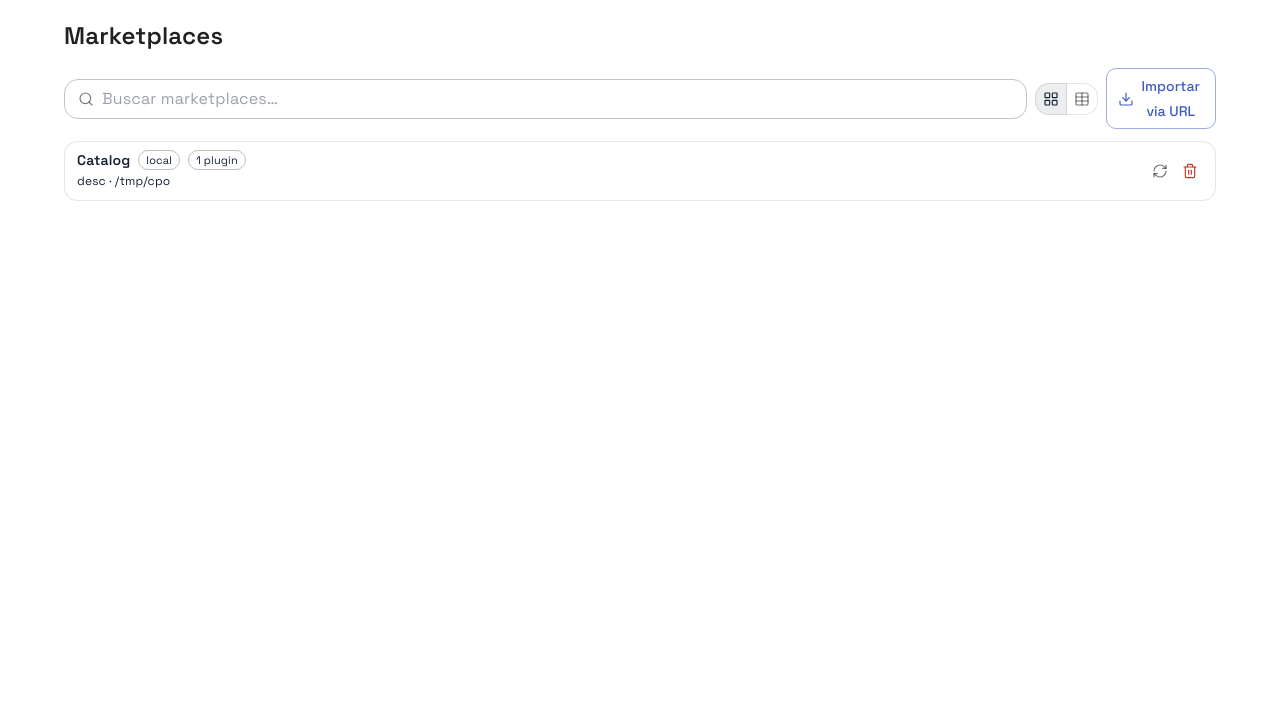
Test: <MarketplaceList> › opens marketplace detail drawer when a card is clicked
Note: List remains on screen
Click the element with test id "entity-grid-card-marketplace-cpo".
click(640, 171)  # box [64, 141, 1216, 201]
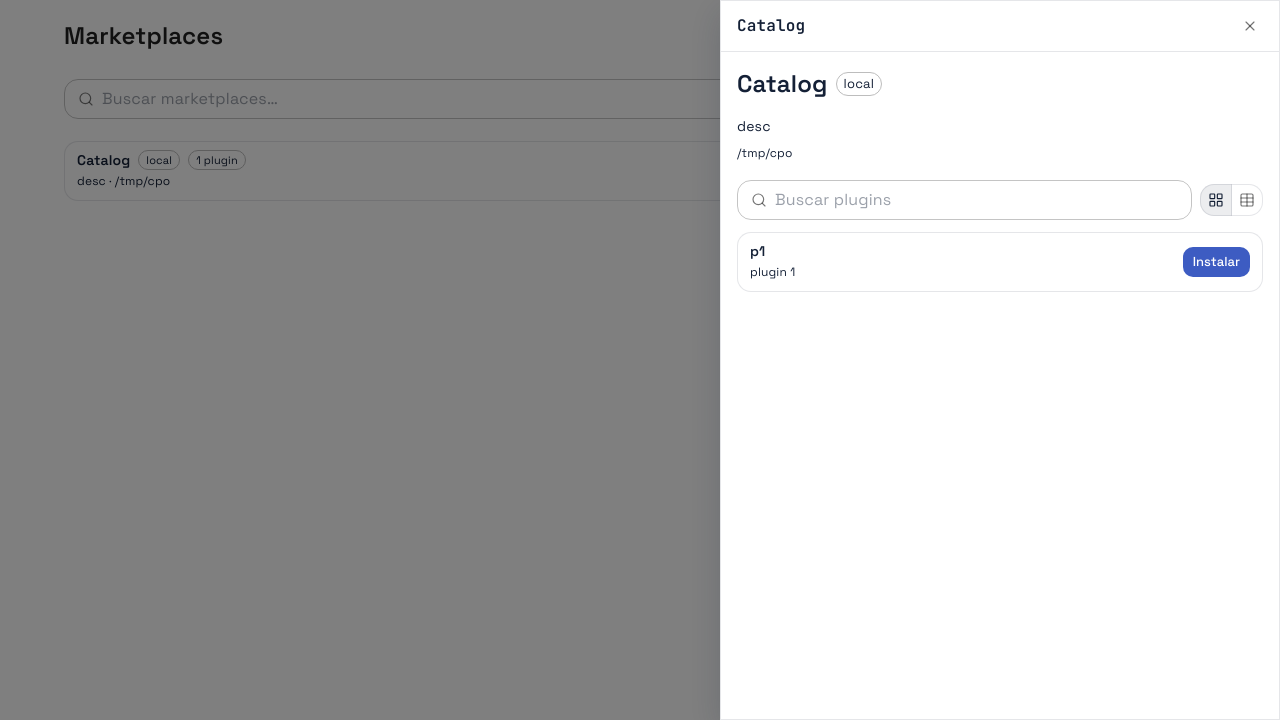
Expected: the element with test id "marketplace-list" is shown, [40, 0, 1240, 221]
Expected: the dialog with test id "detail-drawer-marketplace" is shown, [720, 0, 1279, 719]
Expected: the element with test id "marketplace-detail" is shown, [737, 68, 1263, 292]
Note: Close drawer
Click the button named "close".
click(1250, 26)  # box [1237, 13, 1263, 39]
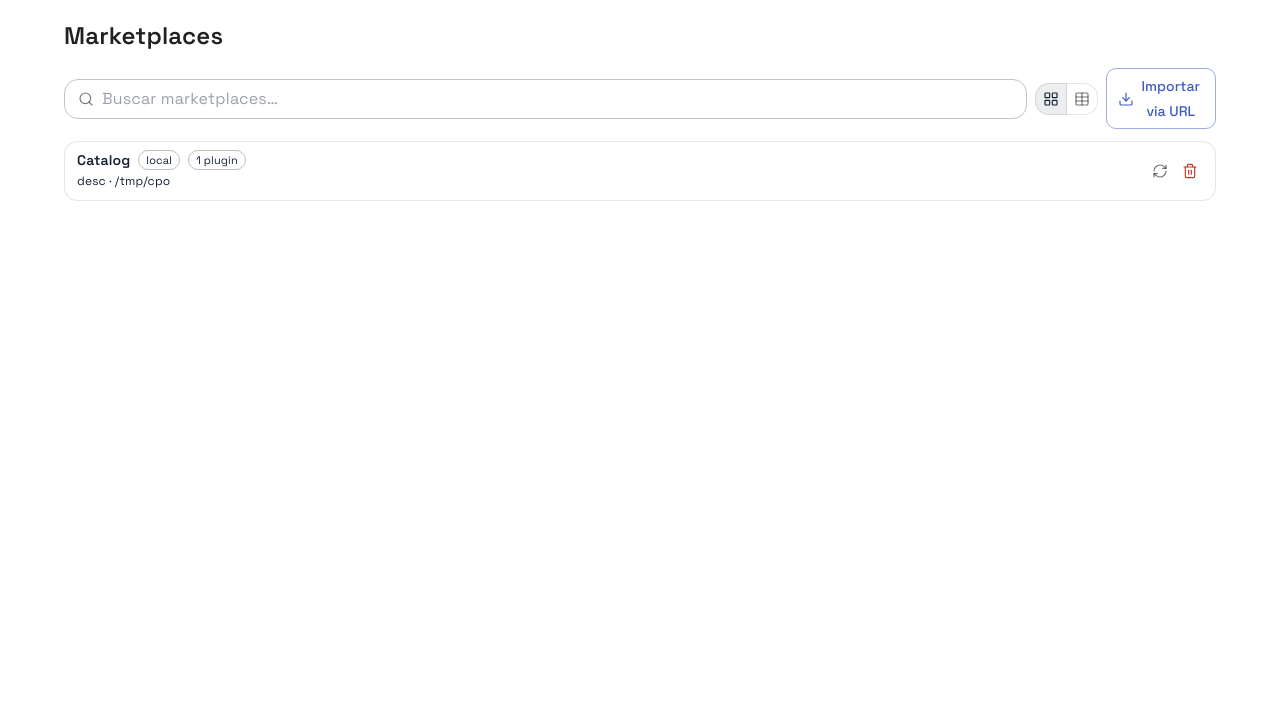
Expected: the element with test id "marketplace-detail" is gone
